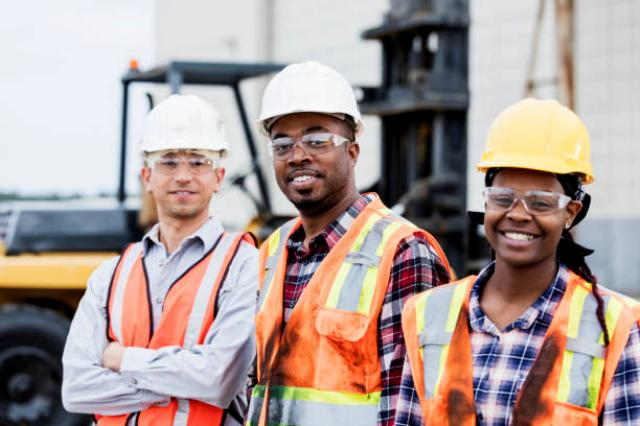helmet: (471, 95, 605, 189), (252, 58, 370, 128), (130, 92, 232, 156)
vest: (253, 215, 452, 426), (400, 267, 639, 426), (85, 225, 248, 426)
